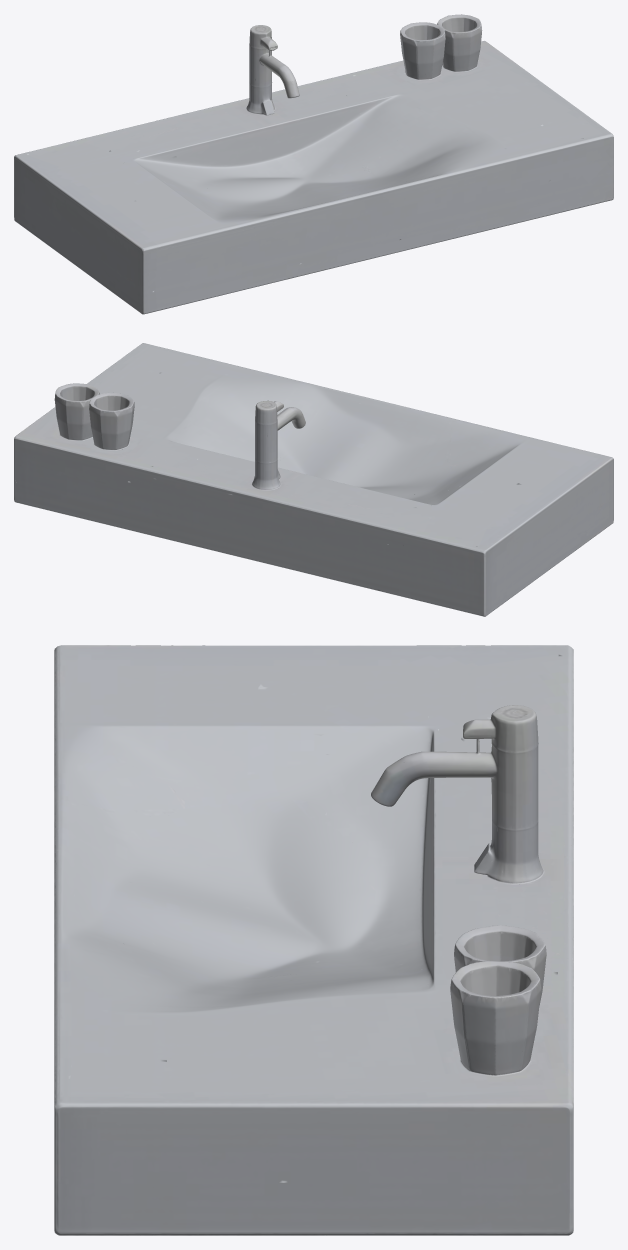
The picture shows the model from 3 angles, top to bottom: view 1: azimuth 30°, elevation 25°; view 2: azimuth 150°, elevation 25°; view 3: azimuth 270°, elevation 25°; orthographic projection. The views are drawn at different scales.
Parts seen in each view (by area): view 1: material; view 2: material; view 3: material.
Boxes of the visible parts, left/top/right/bottom form: material: left=14, top=14, right=613, bottom=314; material: left=14, top=343, right=613, bottom=616; material: left=54, top=645, right=573, bottom=1235.
Bounding box in the file's own units: 1.05 × 0.3097 × 0.5009.
1 material, 1 textured.
